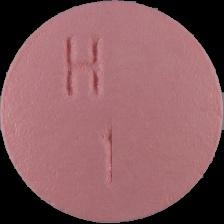55154-4179: (0, 0, 224, 224)
